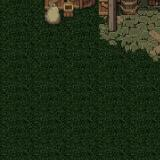Hide: (145, 26, 160, 84)
Obstacle: (97, 0, 160, 66), (38, 0, 98, 31)
